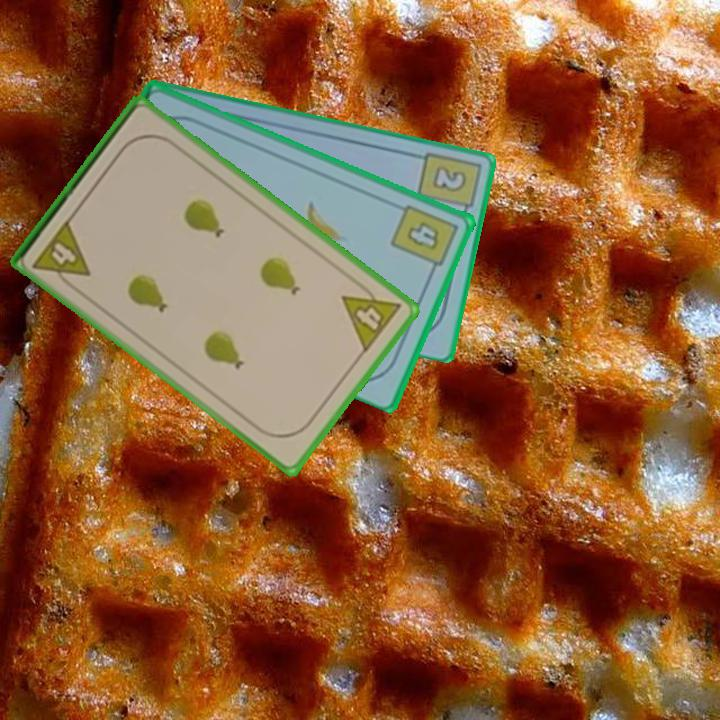2b: (414, 148, 483, 222)
4b: (387, 200, 461, 278)
4p: (338, 275, 404, 356), (29, 215, 94, 294)
